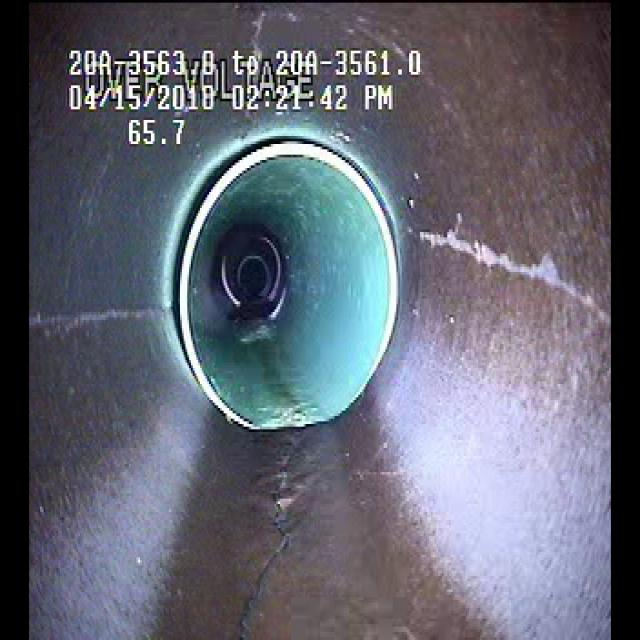Crack: (415, 190, 592, 337), (38, 292, 152, 364)
Fracture: (247, 440, 300, 633)
